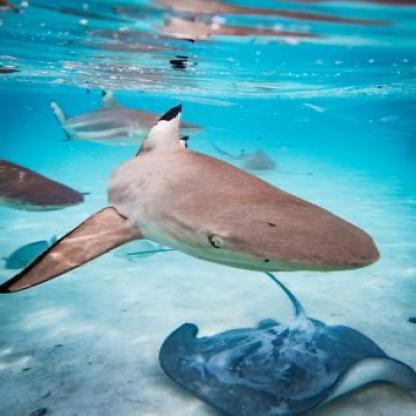shark: (1, 102, 380, 294)
